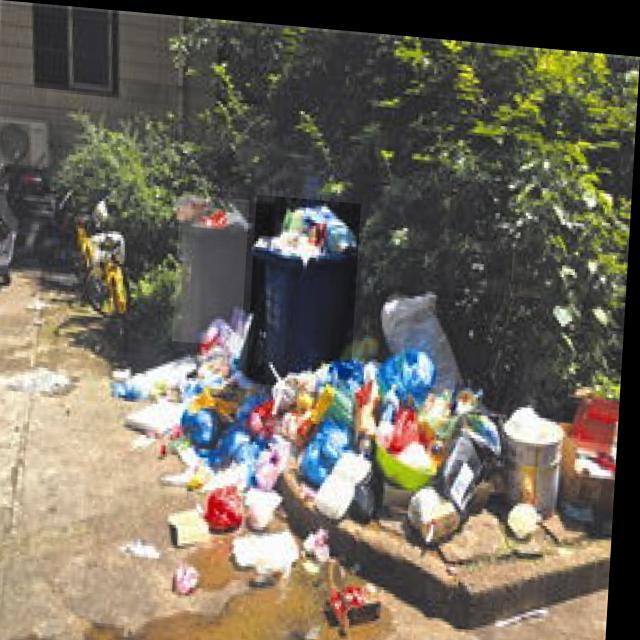garbage: (98, 258, 626, 640)
overflow: (250, 190, 363, 385), (176, 190, 252, 342)
